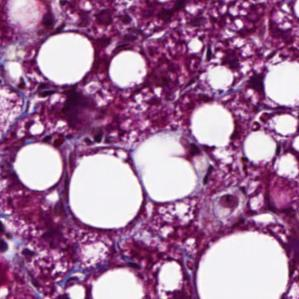inflammation: (35, 81, 104, 123), (88, 1, 129, 42)
